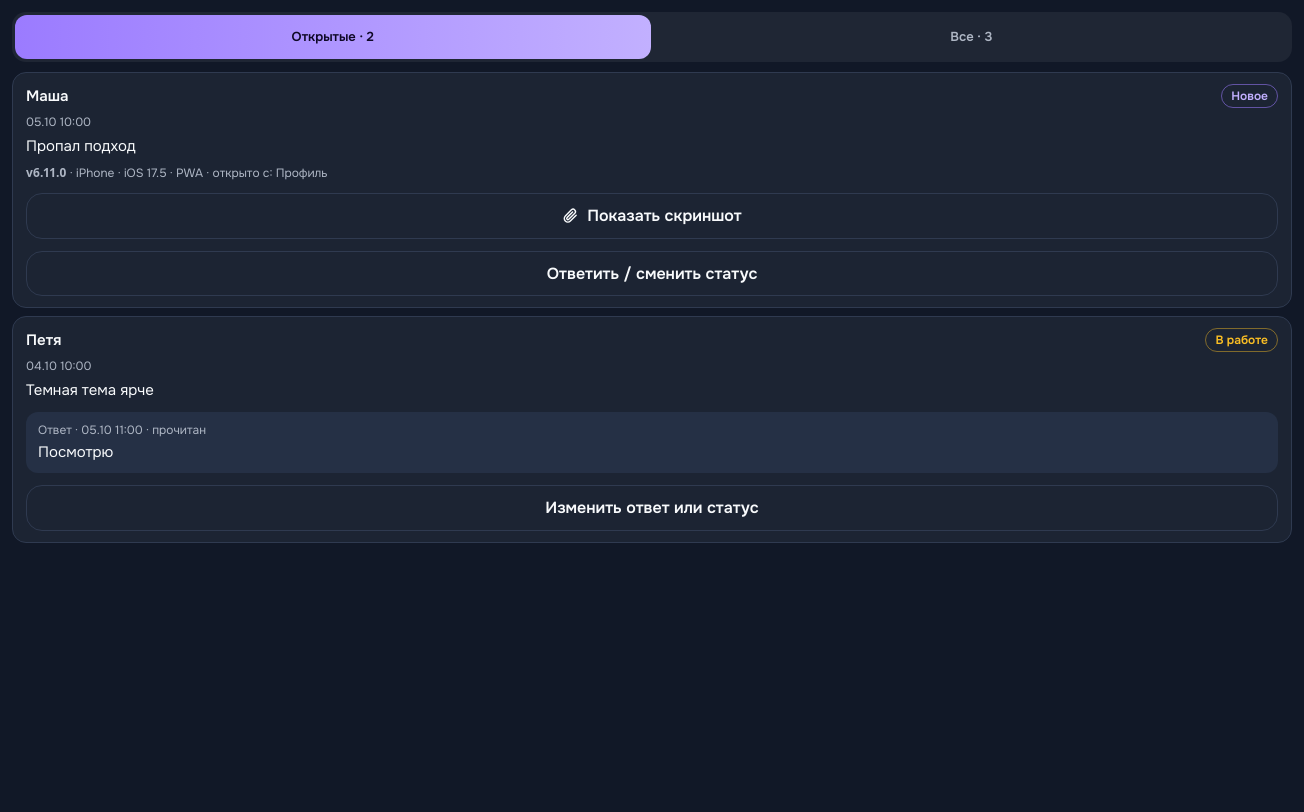
Test: AdminFeedback › по умолчанию открытые, «Все» показывает и закрытые; контекст строкой
Check: the text "Пропал подход" is shown, box [26, 136, 136, 156]
Check: the text "Темная тема ярче" is shown, box [26, 380, 154, 400]
Step 1. Click the tab "Все · 3" → (971, 37), box [654, 15, 1289, 59]
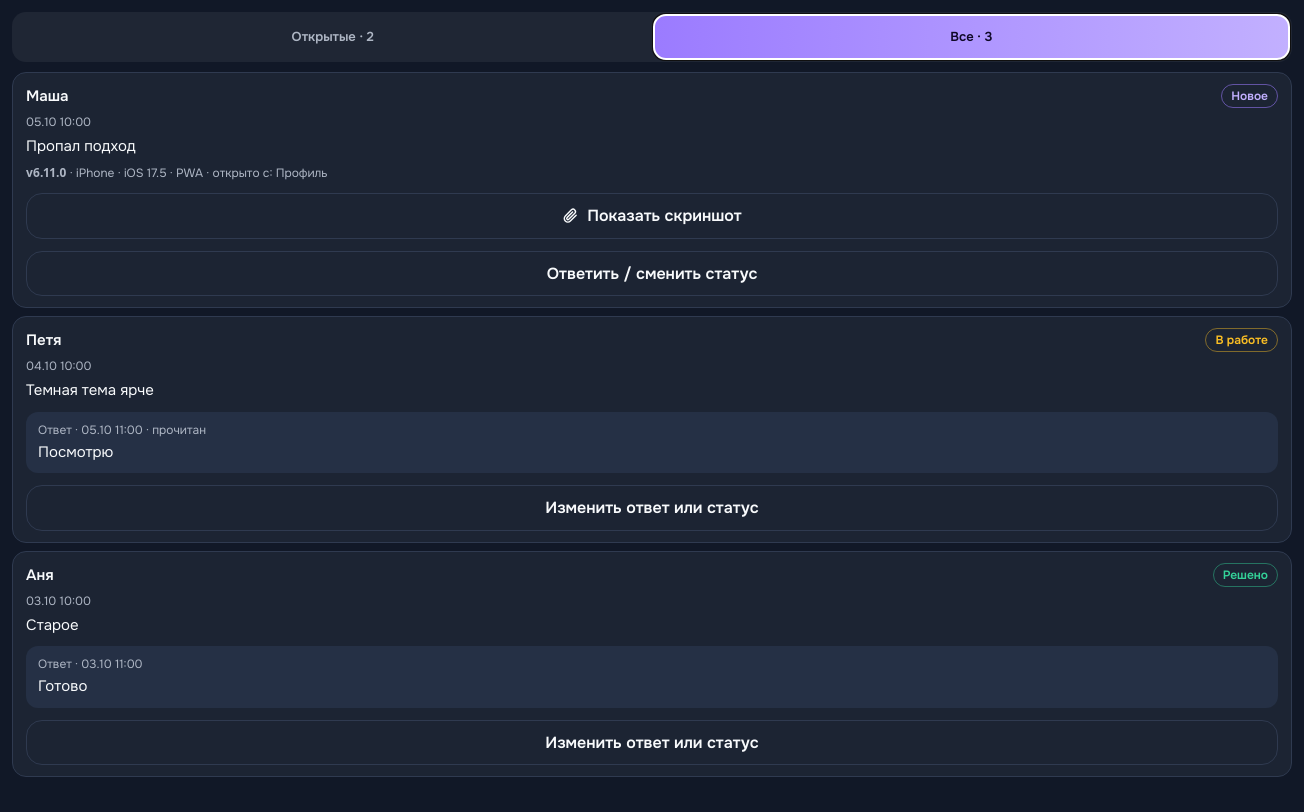
Check: the text "Старое" is shown, box [26, 615, 79, 635]
